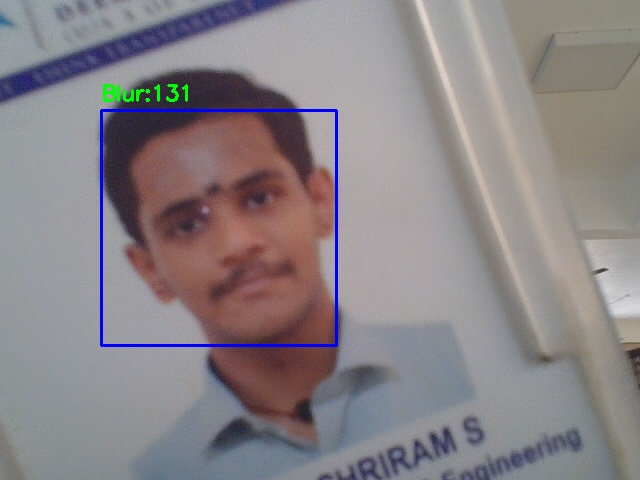fake: (101, 110, 336, 345)
